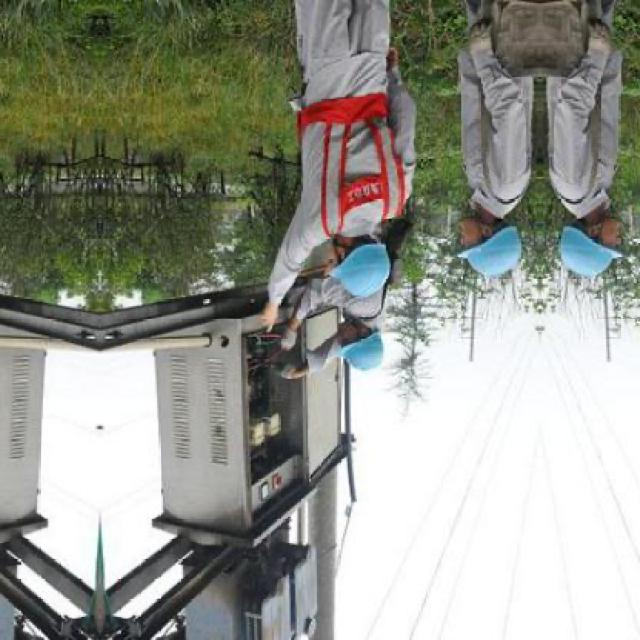con casco: (232, 222, 376, 336), (520, 204, 640, 303), (429, 198, 564, 282), (320, 314, 394, 392)
